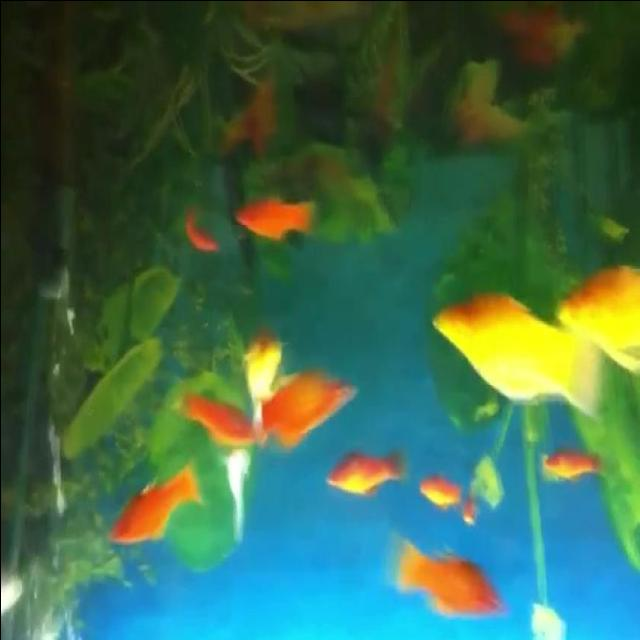PlatyFish: (420, 276, 600, 440), (242, 348, 362, 458), (388, 526, 512, 626), (106, 452, 212, 558), (316, 446, 408, 512)
